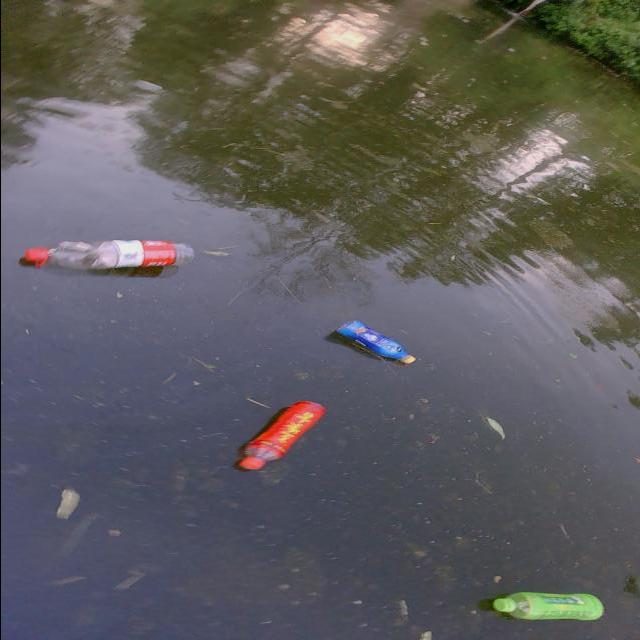bottle: (216, 378, 358, 489), (16, 224, 199, 281), (327, 304, 431, 378), (485, 576, 611, 628)
